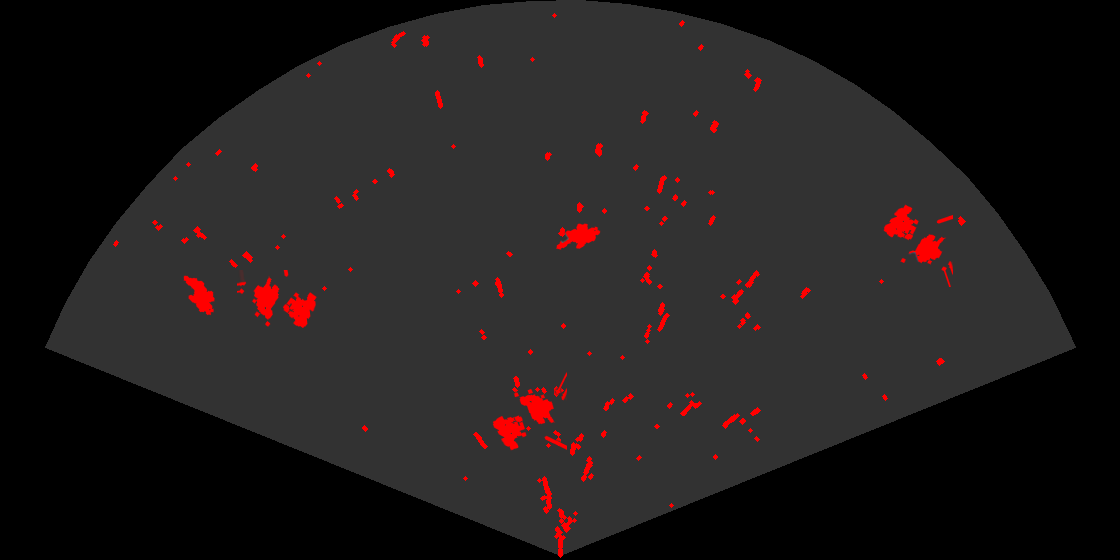AUV: (182, 274, 216, 317), (555, 222, 602, 251)
cage: (491, 371, 567, 452), (882, 203, 953, 287), (237, 270, 318, 329)
